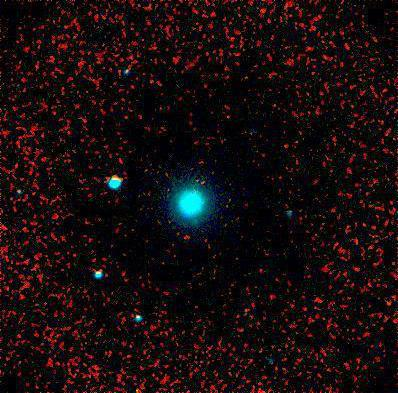star: (169, 203, 199, 233)
